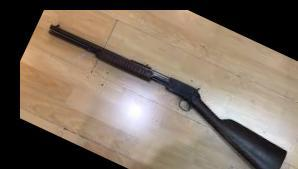larga: (48, 24, 288, 169)
